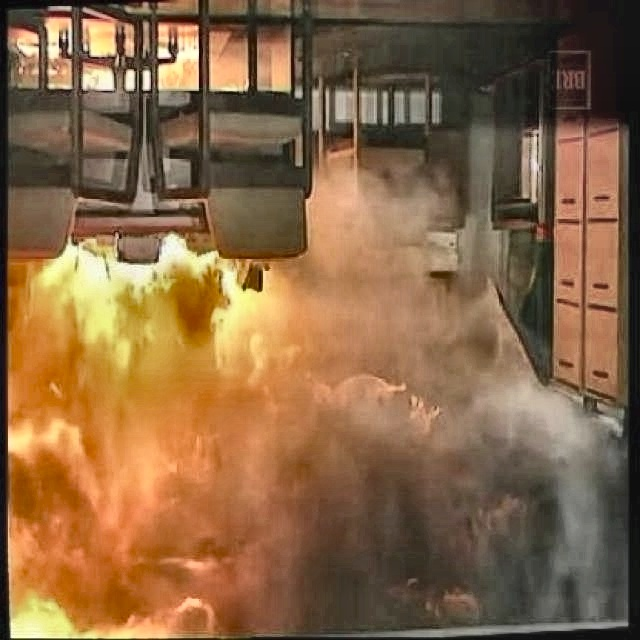fire: (9, 288, 307, 639)
smoke: (327, 383, 627, 628)
